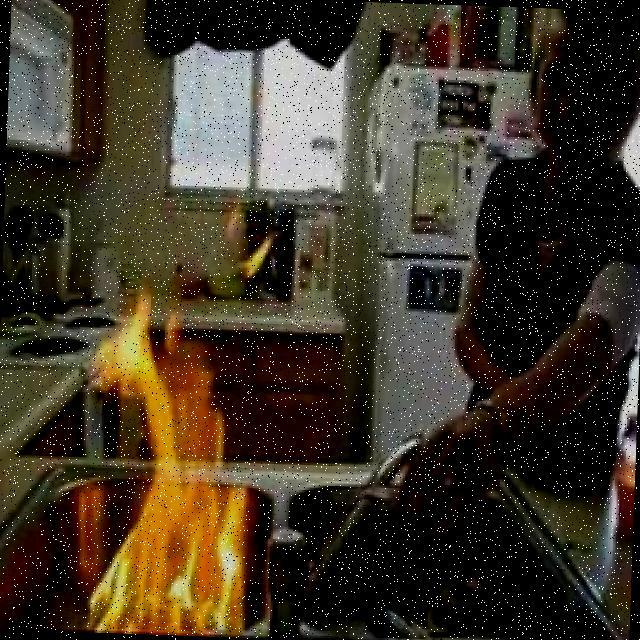Fire: (71, 309, 265, 638), (220, 213, 271, 278)
